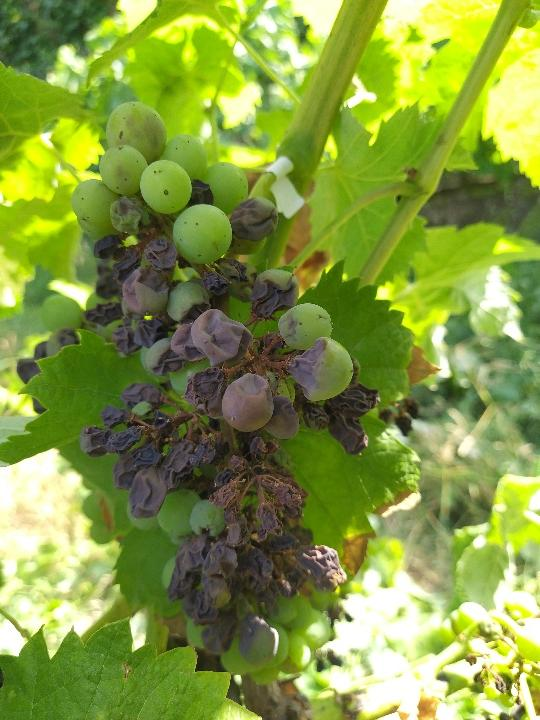grape: (14, 98, 385, 690)
